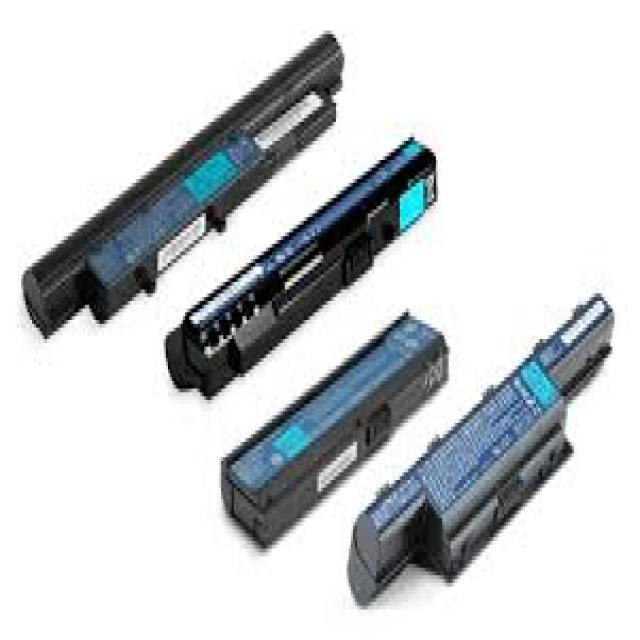non-organic waste: (22, 30, 344, 353), (345, 291, 616, 625), (163, 132, 436, 402), (221, 308, 449, 561)
